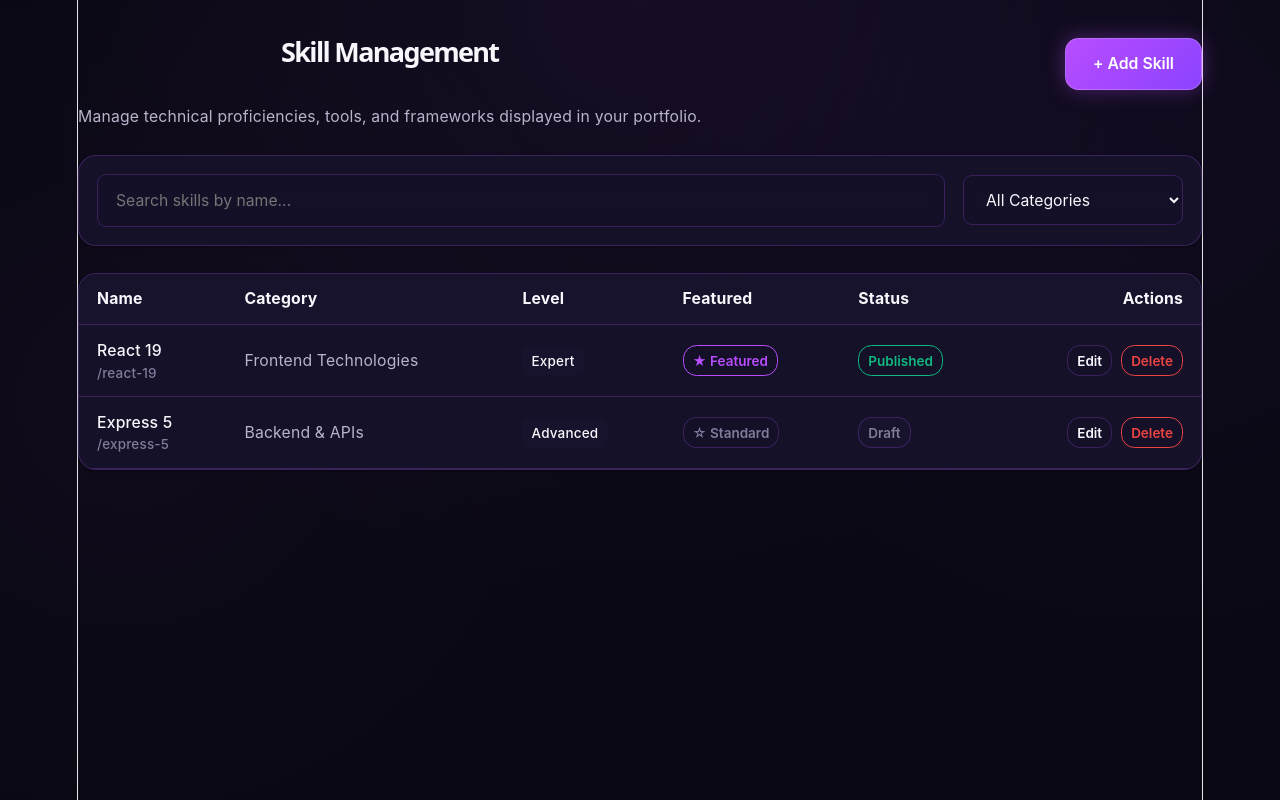
Test: SkillManager Component (src/pages/admin/SkillManager.jsx) › 2. Creates a new skill via modal
Expected: the text "React 19" is shown, [97,341,162,360]
Click the button "+ Add Skill": (1134, 64) [1065,38,1202,90]
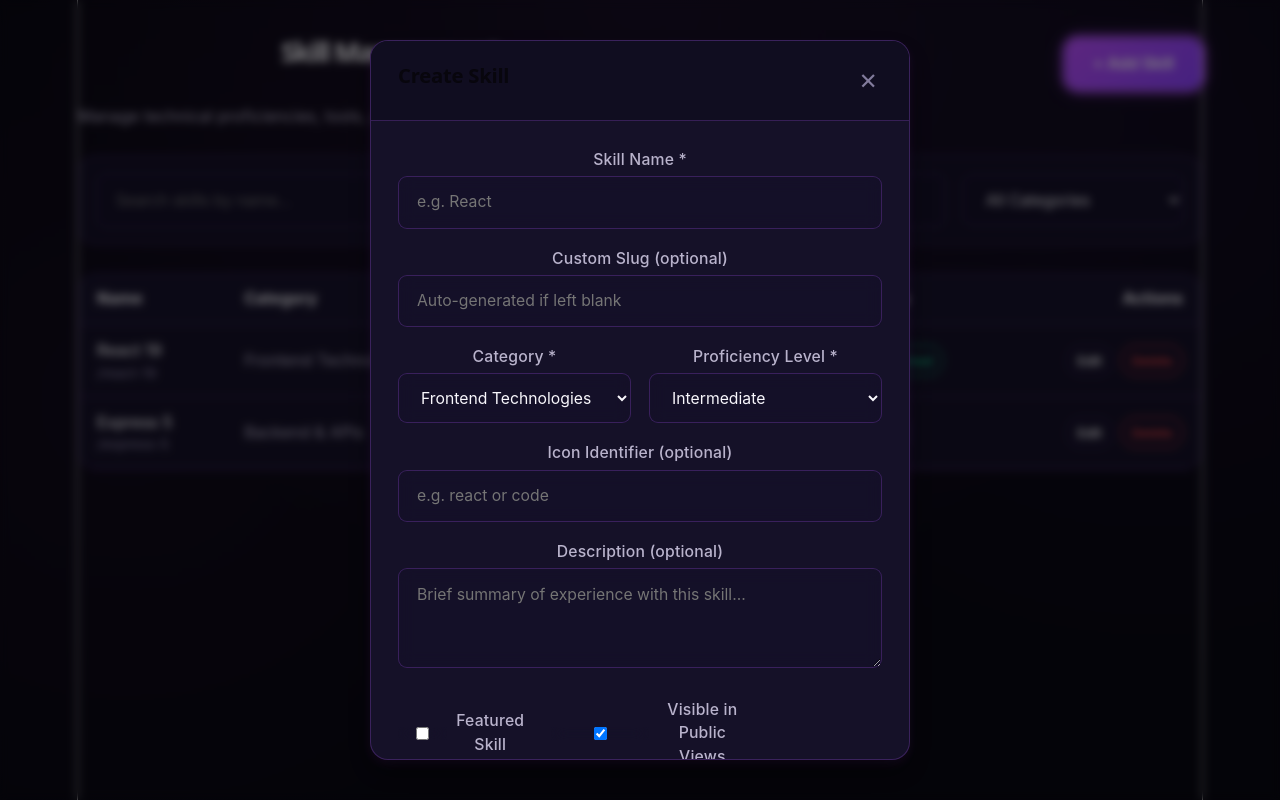
In the field labelled "Skill Name *": (640, 202) [398,176,882,228], type "Node.js"
(page scrolled)
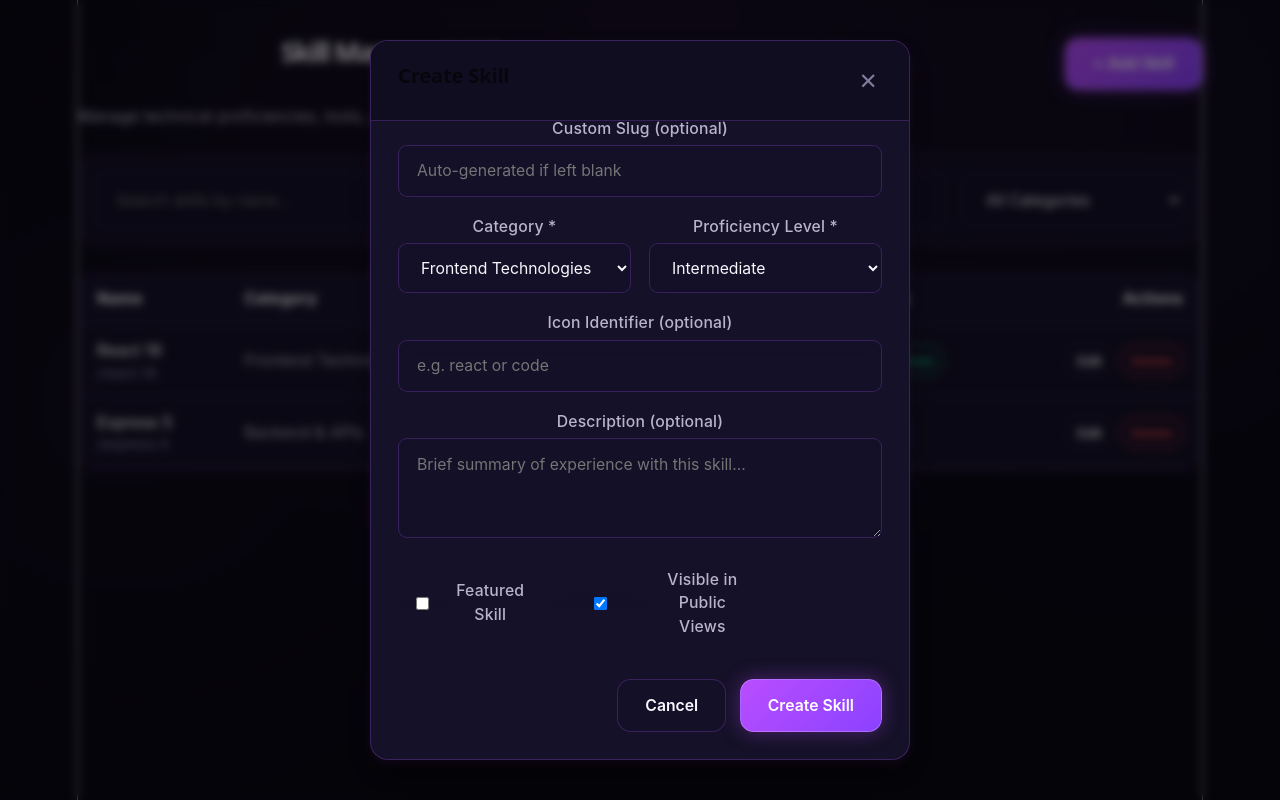
Click the button "Create Skill": (811, 705) [740,679,882,732]
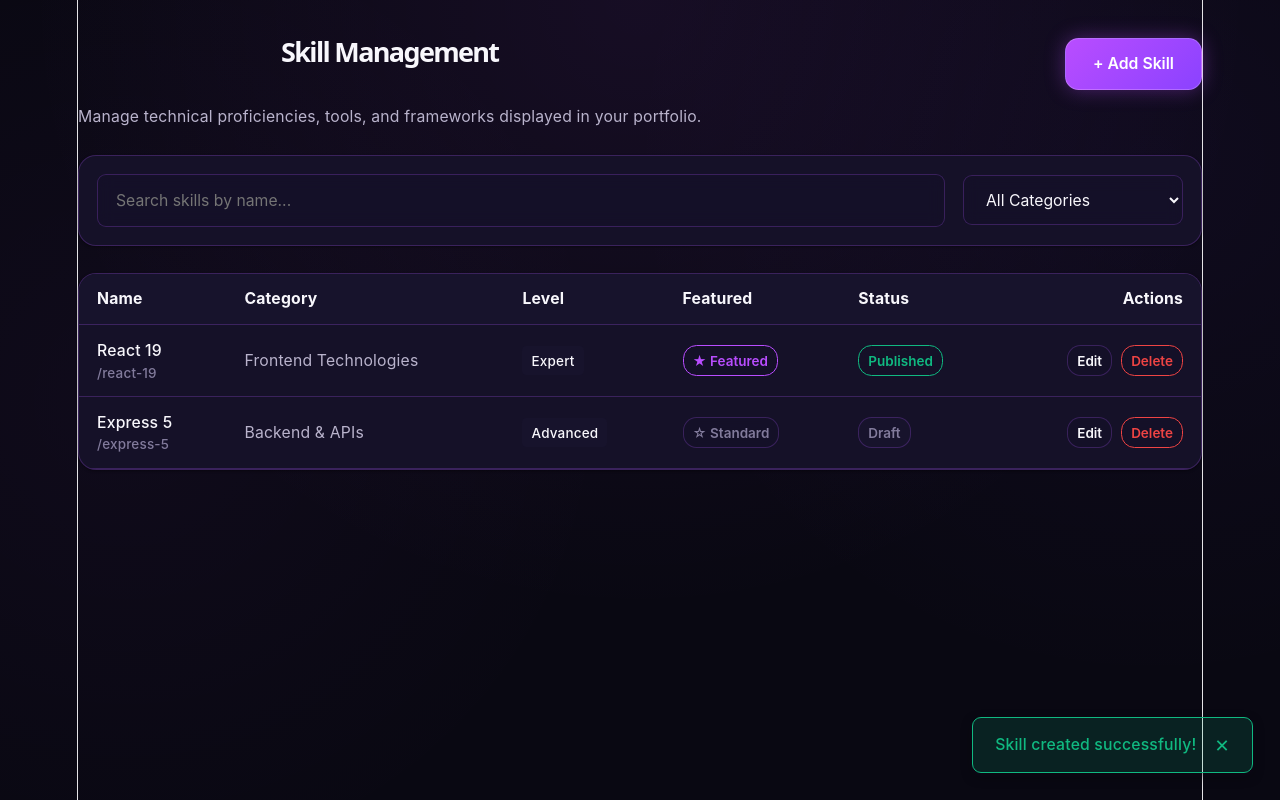
Expected: the text "Skill created successfully!" is shown, [995,733,1196,757]
